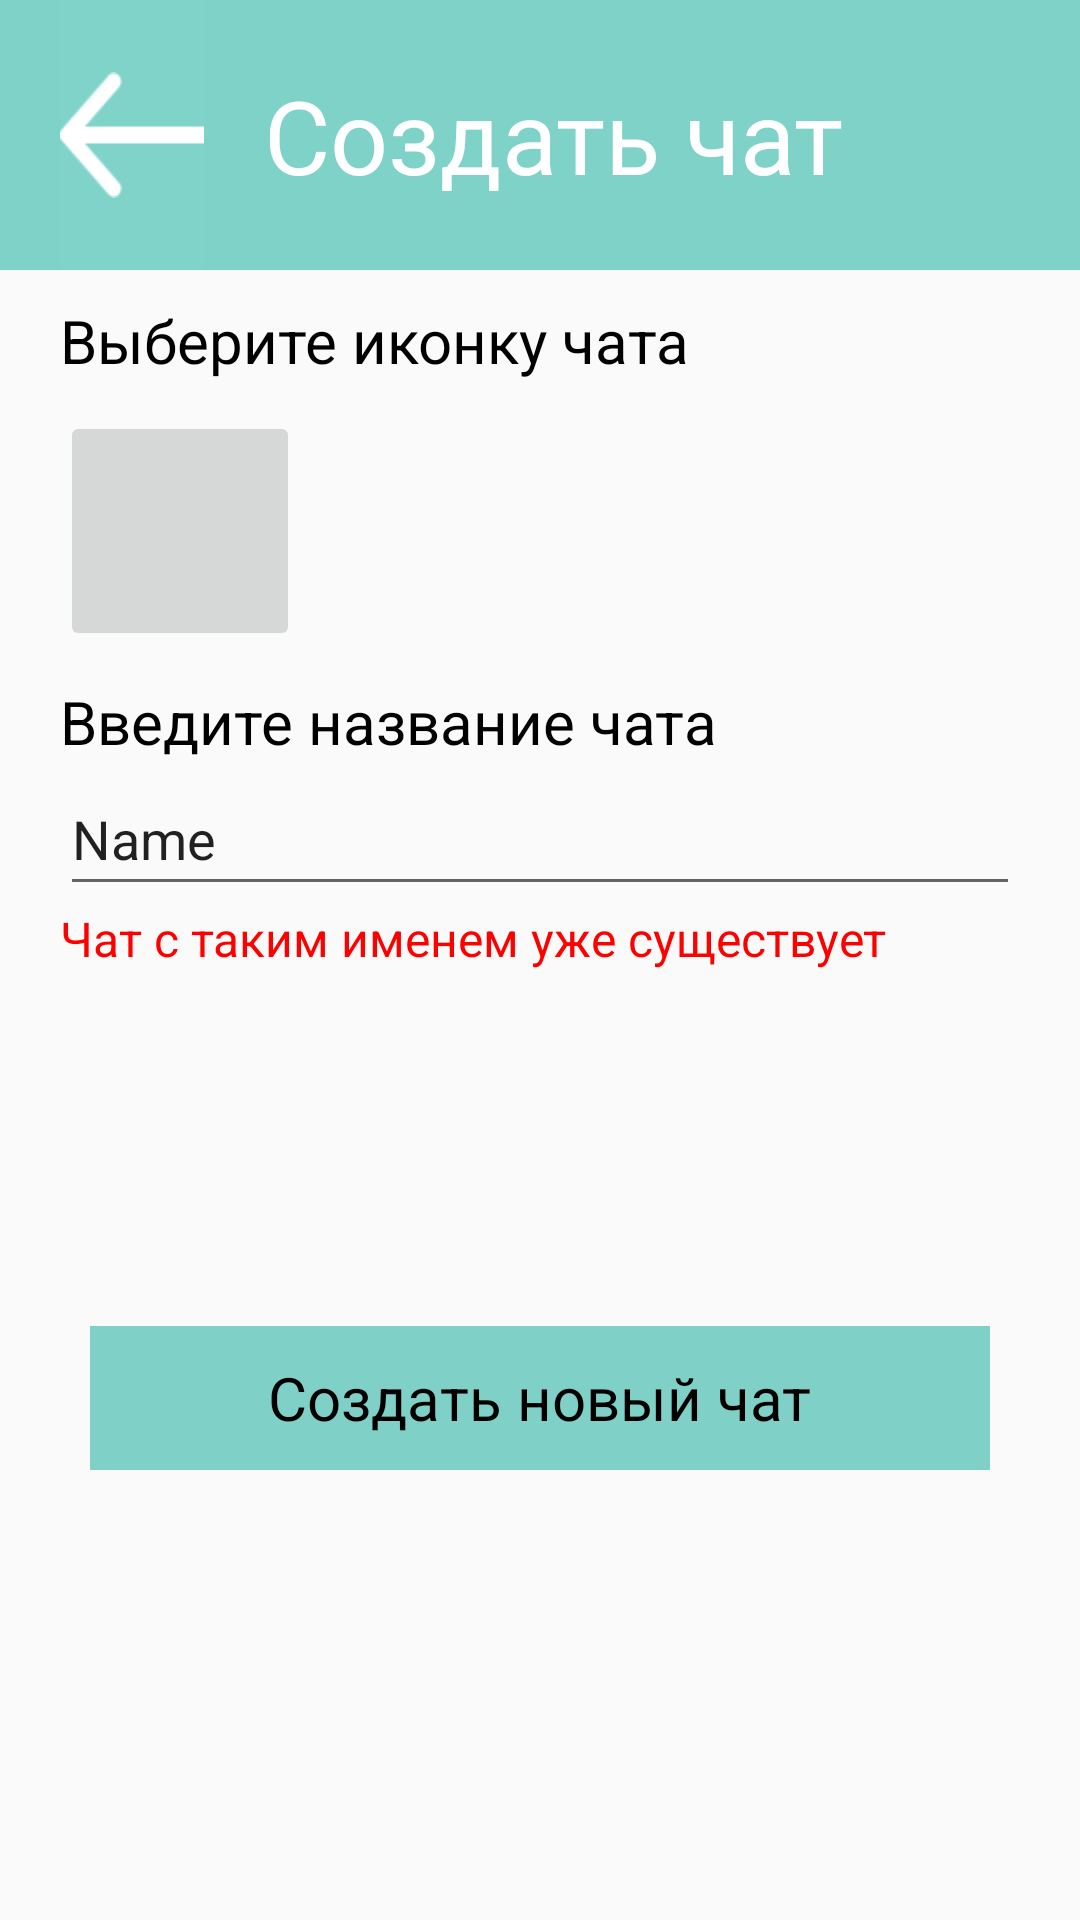

Icons on this 1080 × 1920 Android screen, each with the point to tap as (x,y):
Back to chats: (132,135)
